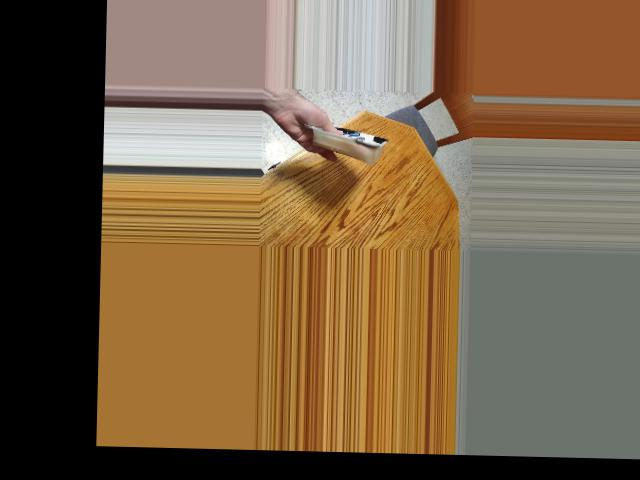cheese: (310, 107, 385, 172)
